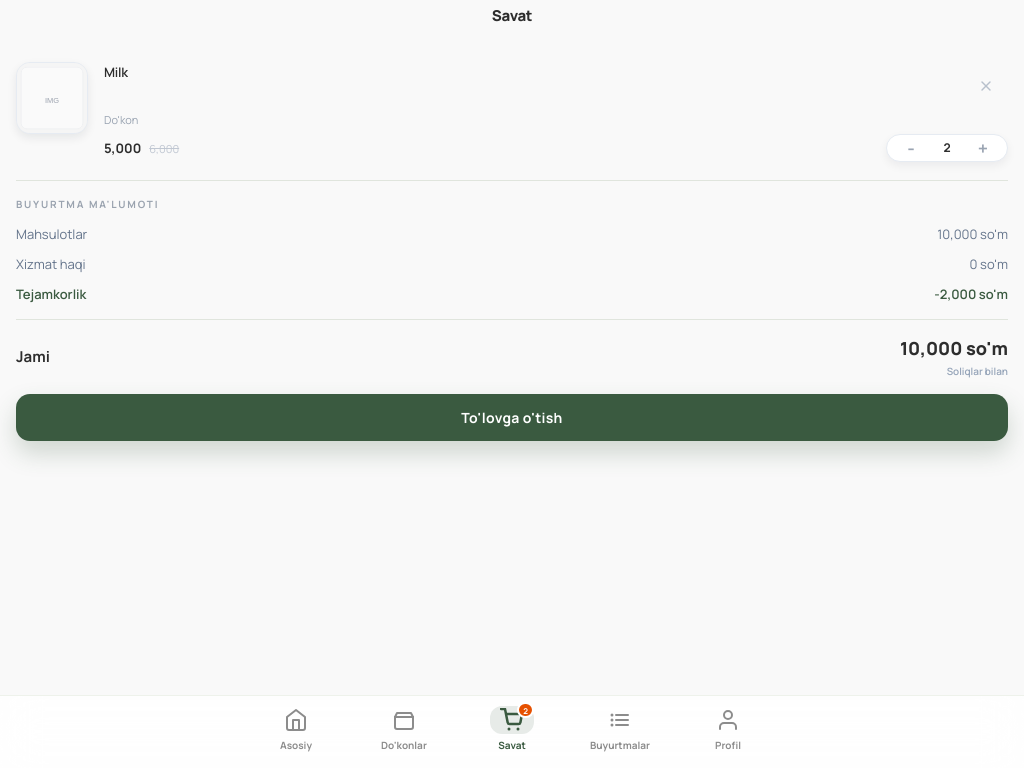
Test case: CartPage › renders cart items and opens checkout
Expected: the heading "Milk" is shown, x1=104 y1=64 x2=128 y2=80
Click the button "To'lovga o'tish". click: point(512, 417)
box: x1=16 y1=394 x2=1008 y2=440
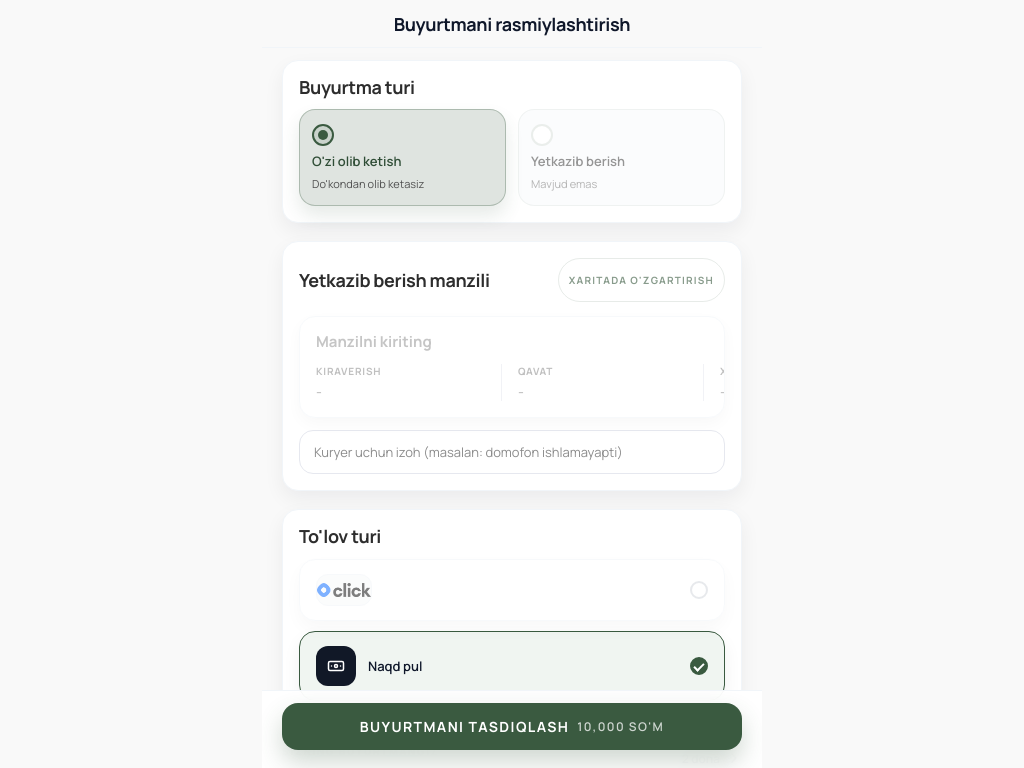
Expected: the heading "Yetkazib berish manzili" is shown, x1=299 y1=270 x2=490 y2=291
